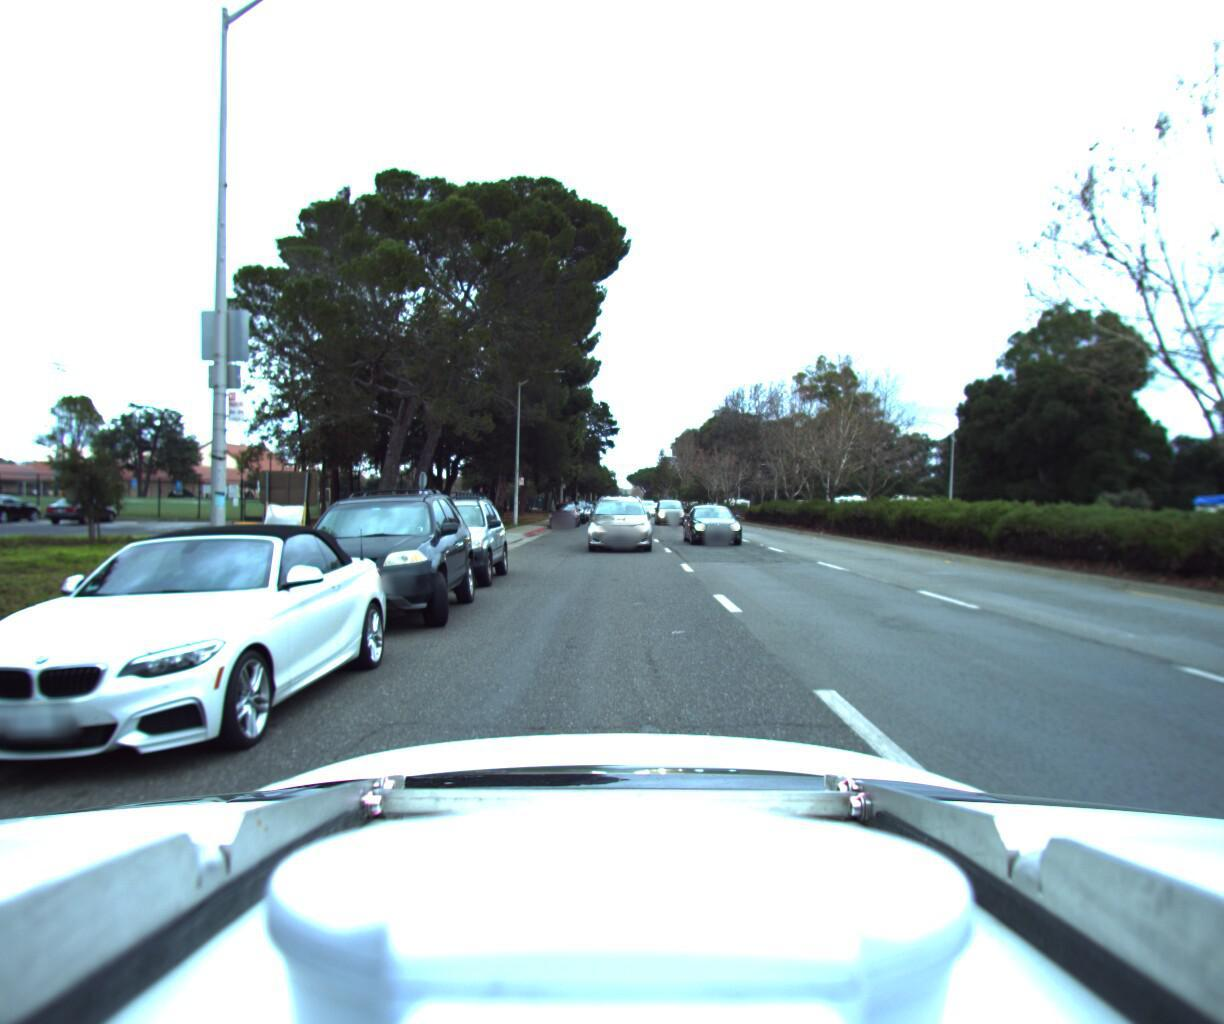car: (0, 513, 393, 801), (250, 473, 479, 636), (377, 487, 511, 589), (584, 482, 652, 545), (679, 498, 747, 541), (655, 488, 688, 519), (545, 493, 579, 522)
other_vehicle: (870, 485, 934, 522), (1184, 484, 1224, 538)
